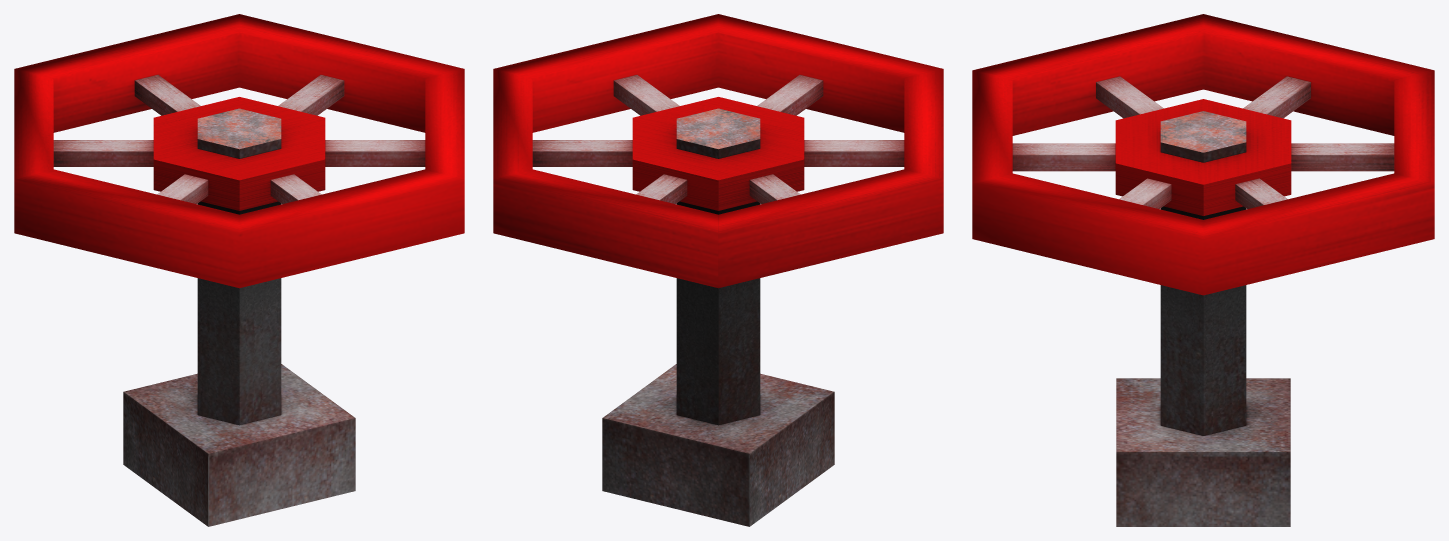
The model's file is SurroundingEnvironment_PipeControl.fbx.
3 views of the same model, side by side, from view 1: azimuth 30°, elevation 25°; view 2: azimuth 150°, elevation 25°; view 3: azimuth 270°, elevation 25° (orthographic). The views are drawn at different scales.
Visible parts, largest first — view 1: PipeControl; view 2: PipeControl; view 3: PipeControl.
Boxes of the visible parts, x1,y1,x2,y2 form: PipeControl: (14, 14, 464, 526); PipeControl: (493, 14, 943, 526); PipeControl: (972, 14, 1434, 526).
Size of the model in its own units: 0.4441 by 0.3335 by 0.3846.
